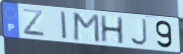9: (155, 20, 174, 49)
H: (99, 15, 125, 46)
I: (59, 10, 69, 41)
J: (128, 18, 149, 47)
M: (72, 12, 102, 44)
Z: (21, 8, 46, 39)
